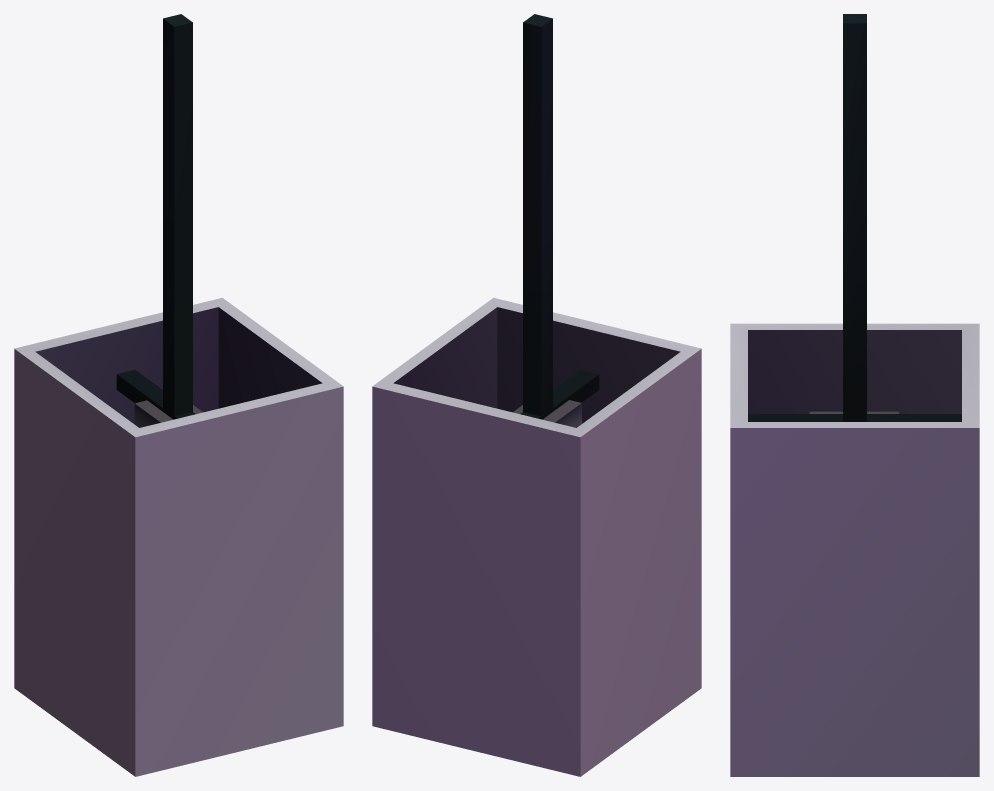
The model's file is boxy_hanging_lamp.FBX.
3 views of the same model, side by side, from view 1: azimuth 30°, elevation 25°; view 2: azimuth 150°, elevation 25°; view 3: azimuth 270°, elevation 25° (orthographic). The views are drawn at different scales.
Parts seen in each view (by area): view 1: boxy hanging lamp, bulb04; view 2: boxy hanging lamp, bulb04; view 3: boxy hanging lamp.
Part boxes in pixels (x1,y1,x2,y2): boxy hanging lamp: (14,14,343,776); bulb04: (134,400,202,427); boxy hanging lamp: (372,14,701,776); bulb04: (513,400,581,427); boxy hanging lamp: (730,14,979,776).
Bounding box in the file's own units: 0.2826 × 0.8903 × 0.285.
